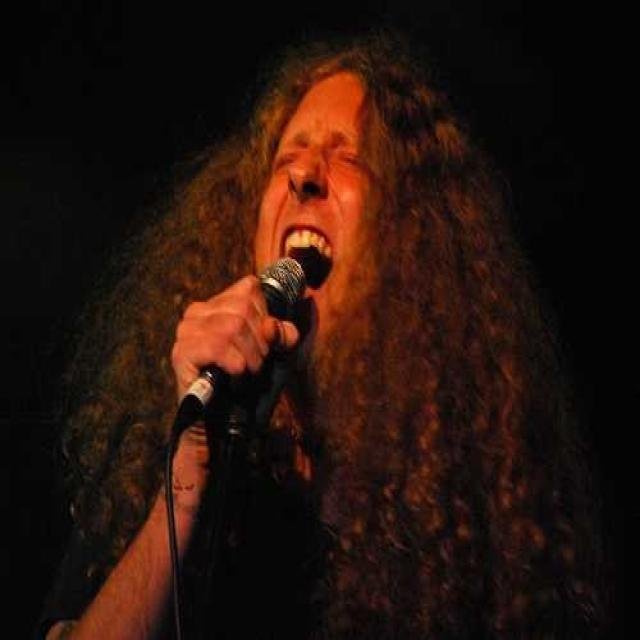microphone: (172, 241, 314, 434)
